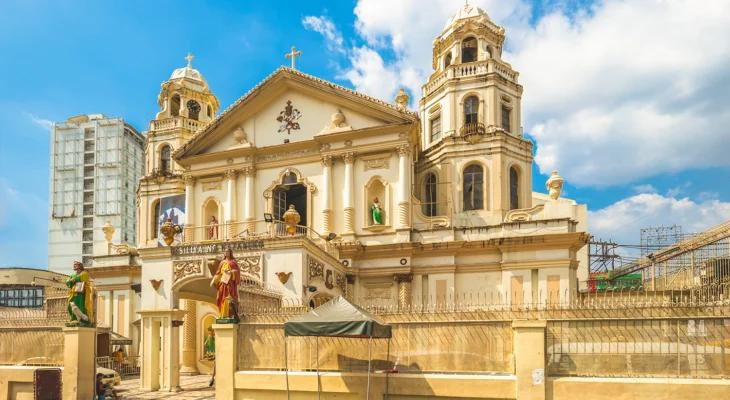quiapo_church_quiapo_manila: (126, 3, 539, 400)
